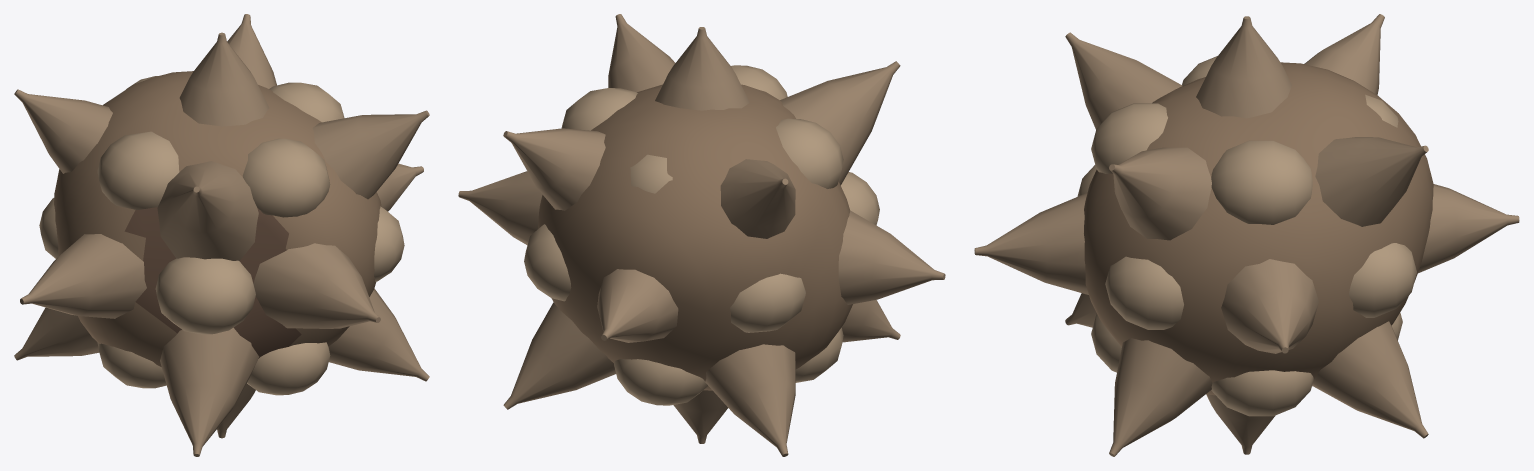
The model's file is spike_mine_tan.glb.
3 views of the same model, side by side, from view 1: azimuth 30°, elevation 25°; view 2: azimuth 150°, elevation 25°; view 3: azimuth 270°, elevation 25° (orthographic). The views are drawn at different scales.
Parts seen in each view (by area): view 1: mine_ball, mine_spike7, mine_spike3, mine_spike6, mine_spike1, mine_knob3, mine_spike11, mine_knob7, mine_spike4, mine_knob5, mine_spike9, mine_spike10 (+9 smaller); view 2: mine_ball, mine_spike8, mine_spike12, mine_spike1, mine_spike7, mine_spike13, mine_spike2, mine_spike9, mine_spike4, mine_spike0, mine_knob2, mine_spike11 (+10 smaller); view 3: mine_ball, mine_spike11, mine_spike13, mine_spike10, mine_spike0, mine_knob4, mine_spike12, mine_spike3, mine_spike4, mine_spike7, mine_knob1, mine_spike2 (+7 smaller).
Boxes of the visible parts, bbox=[...] form: mine_ball: bbox=[54, 71, 381, 366]; mine_spike7: bbox=[157, 161, 258, 260]; mine_spike3: bbox=[253, 243, 380, 328]; mine_spike6: bbox=[160, 327, 259, 456]; mine_spike1: bbox=[20, 234, 146, 318]; mine_knob3: bbox=[155, 257, 255, 334]; mine_spike11: bbox=[312, 110, 429, 199]; mine_knob7: bbox=[242, 138, 330, 217]; mine_spike4: bbox=[179, 32, 269, 126]; mine_knob5: bbox=[97, 131, 179, 209]; mine_spike9: bbox=[14, 89, 112, 173]; mine_spike10: bbox=[329, 288, 429, 381]; mine_ball: bbox=[538, 84, 852, 390]; mine_spike8: bbox=[705, 344, 795, 456]; mine_spike12: bbox=[503, 302, 615, 409]; mine_spike1: bbox=[838, 210, 945, 304]; mine_spike7: bbox=[780, 61, 900, 185]; mine_spike13: bbox=[503, 128, 605, 210]; mine_spike2: bbox=[597, 269, 678, 342]; mine_spike9: bbox=[720, 159, 795, 238]; mine_spike4: bbox=[655, 27, 749, 110]; mine_spike0: bbox=[458, 171, 542, 245]; mine_knob2: bbox=[730, 273, 805, 332]; mine_spike11: bbox=[608, 14, 675, 92]; mine_ball: bbox=[1084, 62, 1433, 395]; mine_spike11: bbox=[1109, 147, 1211, 240]; mine_spike13: bbox=[1315, 137, 1428, 226]; mine_spike10: bbox=[1109, 338, 1212, 456]; mine_spike0: bbox=[1221, 259, 1318, 353]; mine_knob4: bbox=[1211, 140, 1312, 224]; mine_spike12: bbox=[1312, 321, 1428, 438]; mine_spike3: bbox=[974, 192, 1088, 294]; mine_spike4: bbox=[1196, 16, 1291, 118]; mine_spike7: bbox=[1065, 32, 1182, 129]; mine_knob1: bbox=[1105, 256, 1183, 329]; mine_spike2: bbox=[1418, 184, 1519, 273].
Bounding box in the file's own units: 23.81 × 21 × 23.81.
